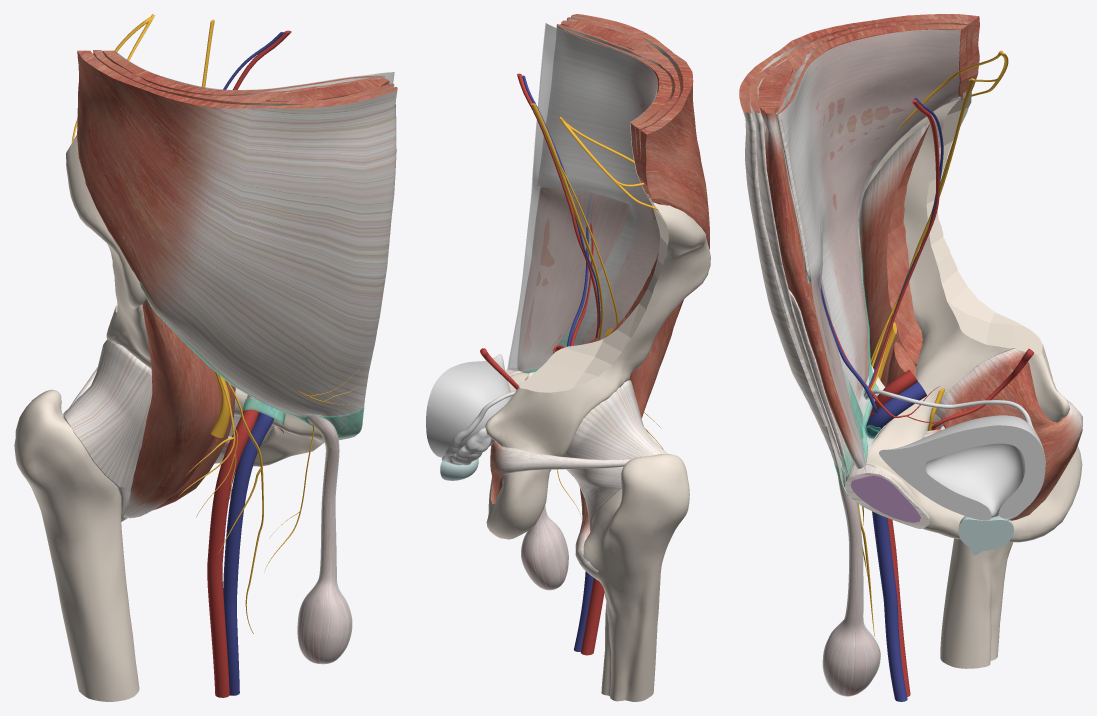
File: inguinal-and-femoral-canal-hernia-surgery.glb
3 renders of one model, left to right at view 1: azimuth 30°, elevation 25°; view 2: azimuth 150°, elevation 25°; view 3: azimuth 270°, elevation 25°, orthographic. The views are drawn at different scales.
Parts seen in each view (by area): view 1: External abdominal oblique muscle.r, Femur.r, Iliacus muscle.r, Hip joint capsule.r, Hip bone.r, External spermatic fascia.r, Cremaster muscle and fascia.r, Femoral artery.r, Femoral vein.r, Internal abdominal oblique muscle.r, Transversus abdominis muscle.r, Genitofemoral nerve, femoral branch.r (+6 smaller); view 2: Transversalis fascia.r, Transversus abdominis muscle.r, Hip bone.r, Femur.r, Rectus abdominis muscle.r, External abdominal oblique muscle.r, Hip joint capsule.r, Urinary bladder, External spermatic fascia.r, Obturator internus muscle.r, Cremaster muscle and fascia.r, Iliacus muscle.r (+12 smaller); view 3: Transversus abdominis muscle.r, Transversalis fascia.r, Hip bone.r, Urinary bladder, Iliacus muscle.r, Rectus abdominis muscle.r, External abdominal oblique muscle.r, Obturator internus muscle.r, Femur.r, Internal abdominal oblique muscle.r, External spermatic fascia.r, Cremaster muscle and fascia.r (+16 smaller).
Boxes of the visible parts, <box> form: External abdominal oblique muscle.r: <box>76,50,397,438</box>; Femur.r: <box>14,389,139,701</box>; Iliacus muscle.r: <box>123,299,221,518</box>; Hip joint capsule.r: <box>63,339,152,519</box>; Hip bone.r: <box>66,136,324,466</box>; External spermatic fascia.r: <box>297,414,352,664</box>; Cremaster muscle and fascia.r: <box>298,416,351,663</box>; Femoral artery.r: <box>207,397,259,697</box>; Femoral vein.r: <box>223,407,273,695</box>; Internal abdominal oblique muscle.r: <box>93,50,394,105</box>; Transversus abdominis muscle.r: <box>102,50,385,95</box>; Genitofemoral nerve, femoral branch.r: <box>178,374,263,633</box>; Transversalis fascia.r: <box>507,23,660,373</box>; Transversus abdominis muscle.r: <box>537,24,672,345</box>; Hip bone.r: <box>485,193,710,539</box>; Femur.r: <box>583,454,689,701</box>; Rectus abdominis muscle.r: <box>517,20,652,371</box>; External abdominal oblique muscle.r: <box>571,14,709,249</box>; Hip joint capsule.r: <box>564,380,667,530</box>; Urinary bladder: <box>426,354,511,457</box>; External spermatic fascia.r: <box>521,505,568,590</box>; Obturator internus muscle.r: <box>490,372,632,504</box>; Cremaster muscle and fascia.r: <box>522,509,568,588</box>; Iliacus muscle.r: <box>610,253,683,418</box>; Transversus abdominis muscle.r: <box>776,24,968,475</box>; Transversalis fascia.r: <box>781,29,960,472</box>; Hip bone.r: <box>853,90,1082,542</box>; Urinary bladder: <box>879,415,1045,520</box>; Iliacus muscle.r: <box>859,122,929,386</box>; Rectus abdominis muscle.r: <box>758,59,865,468</box>; External abdominal oblique muscle.r: <box>739,14,979,495</box>; Obturator internus muscle.r: <box>922,348,1082,520</box>; Femur.r: <box>940,538,1012,668</box>; Internal abdominal oblique muscle.r: <box>749,19,973,476</box>; External spermatic fascia.r: <box>822,475,880,696</box>; Cremaster muscle and fascia.r: <box>824,480,880,695</box>.
Size of the model in its own units: 0.1482 by 0.3419 by 0.1678.
Materials: 14 (5 with a texture image).
